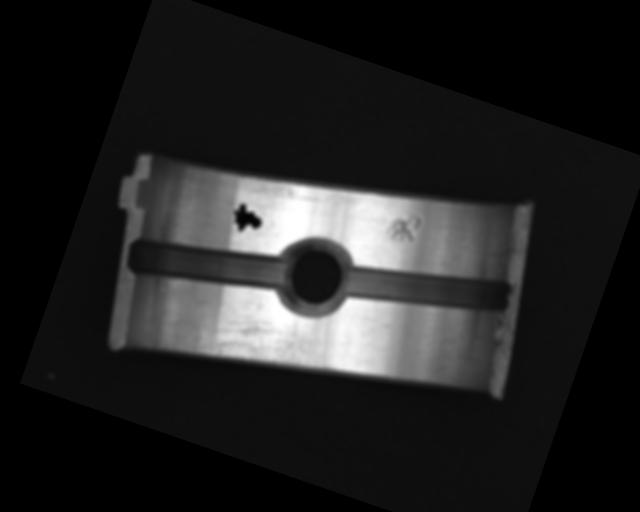blot: (225, 200, 267, 238)
bruise: (383, 206, 424, 247)
gap: (339, 231, 514, 347), (121, 212, 292, 320)
hole: (266, 232, 360, 326)
scratch: (182, 290, 340, 399)
